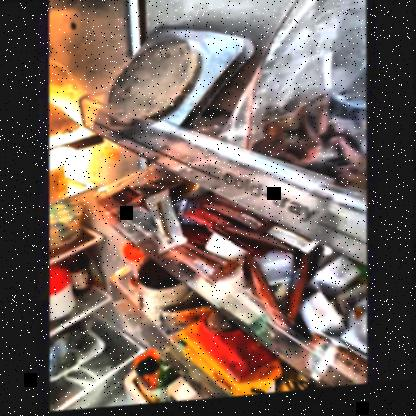butter: (173, 323, 252, 389)
dates: (257, 85, 370, 183)
salami: (101, 45, 197, 121)
yoghurt: (50, 204, 84, 248)
